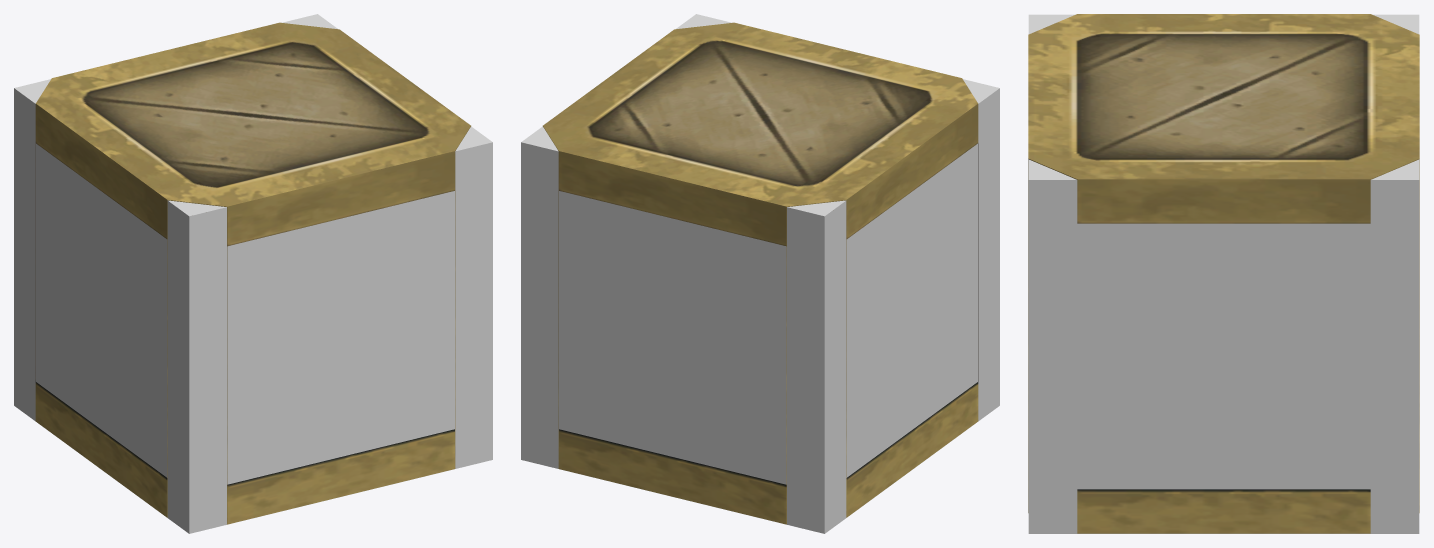
The model's file is sol-crate.glb.
The picture shows the model from 3 angles, left to right: view 1: azimuth 30°, elevation 25°; view 2: azimuth 150°, elevation 25°; view 3: azimuth 270°, elevation 25°; orthographic projection. The views are drawn at different scales.
Parts seen in each view (by area): view 1: Sol-Crate.cmesh, Sol-Crate; view 2: Sol-Crate.cmesh, Sol-Crate; view 3: Sol-Crate.cmesh, Sol-Crate.
Part boxes in pixels (<box>): Sol-Crate.cmesh: <box>14,14,492,533</box>; Sol-Crate: <box>35,22,470,524</box>; Sol-Crate.cmesh: <box>521,14,999,533</box>; Sol-Crate: <box>543,22,978,524</box>; Sol-Crate.cmesh: <box>1028,14,1419,533</box>; Sol-Crate: <box>1028,14,1419,533</box>.
Size of the model in its own units: 1.77 by 1.77 by 1.77.
1 material, 1 textured.
